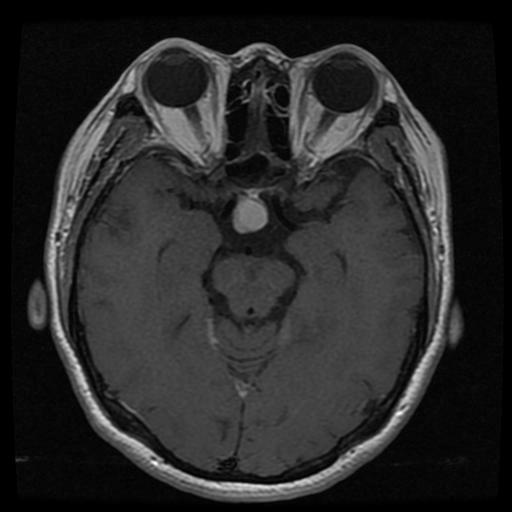Tumour-Pituitary: (230, 192, 272, 237)
